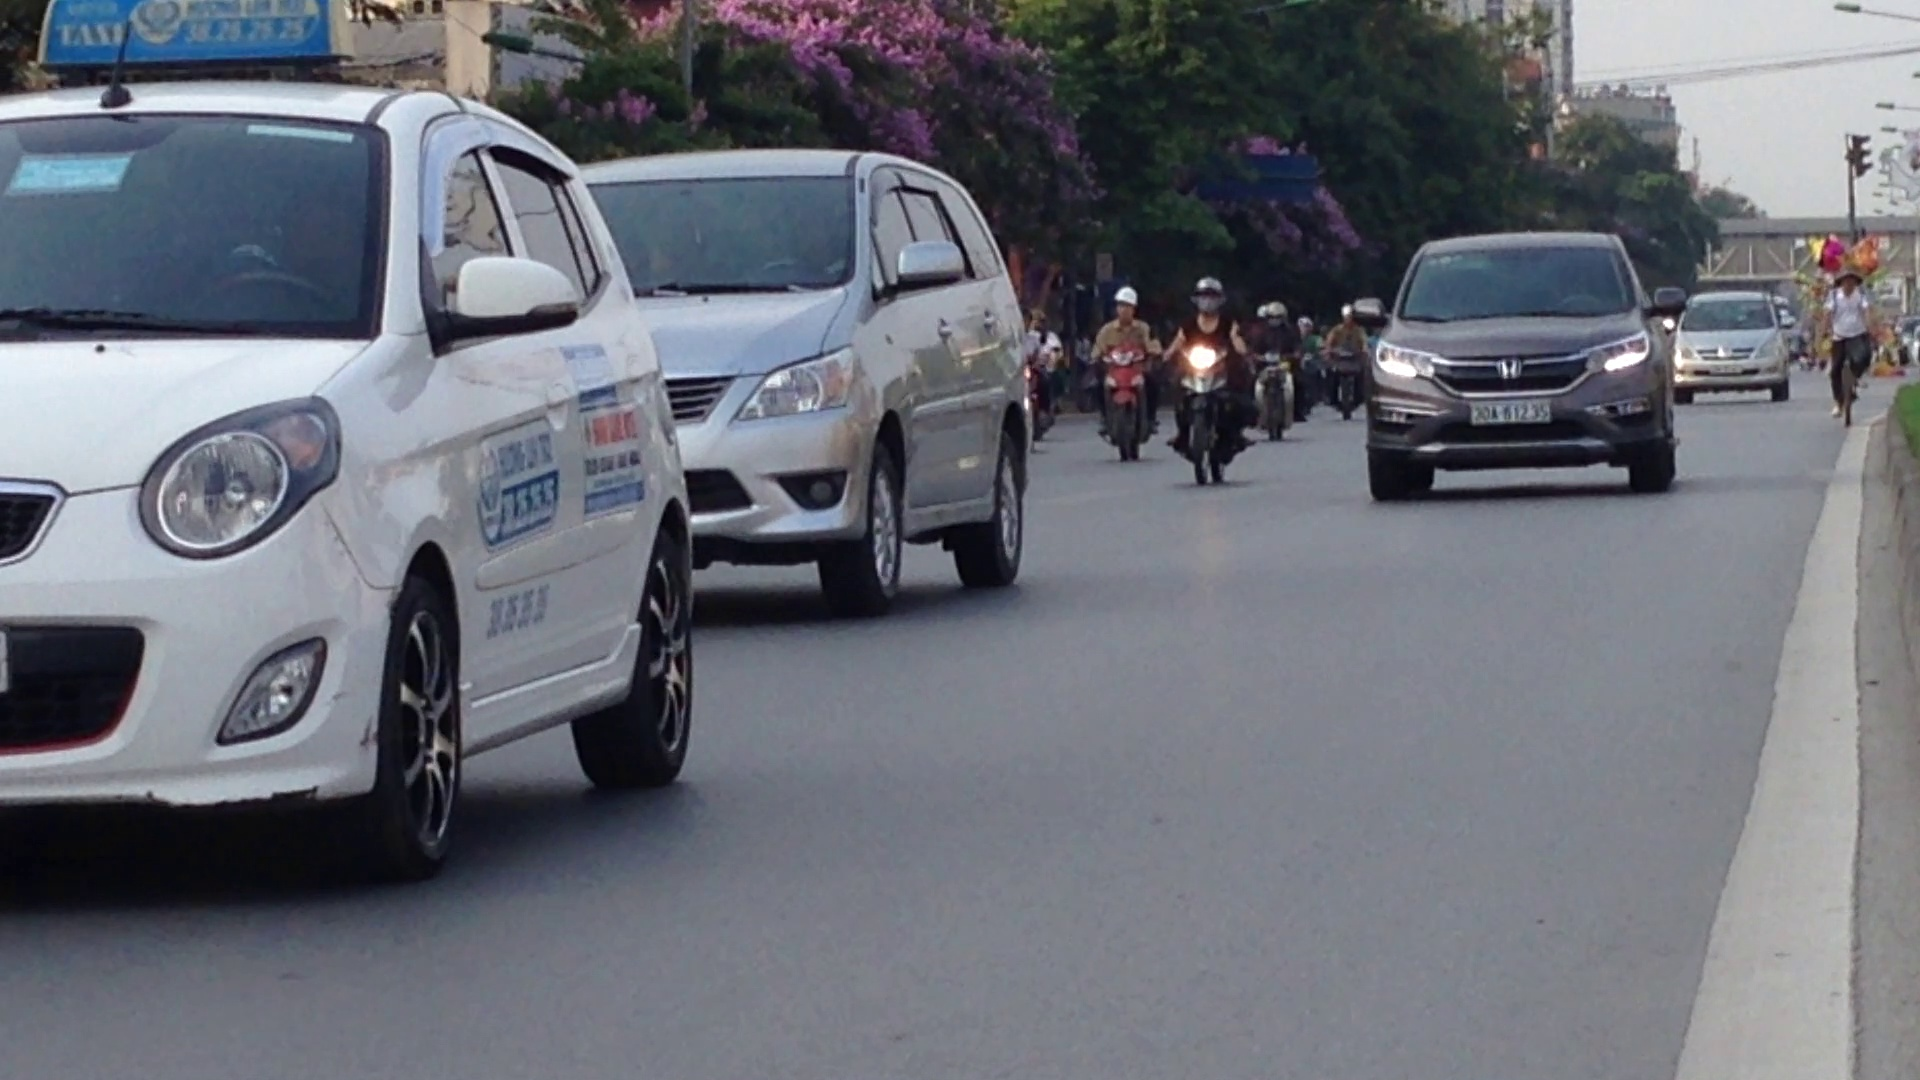person: (1467, 396, 1556, 428)
